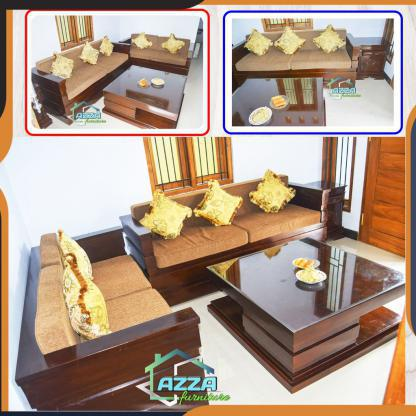meja: (206, 234, 412, 378)
sova: (18, 230, 211, 411), (123, 175, 379, 290), (231, 26, 368, 91), (37, 36, 129, 122), (117, 30, 196, 76)
